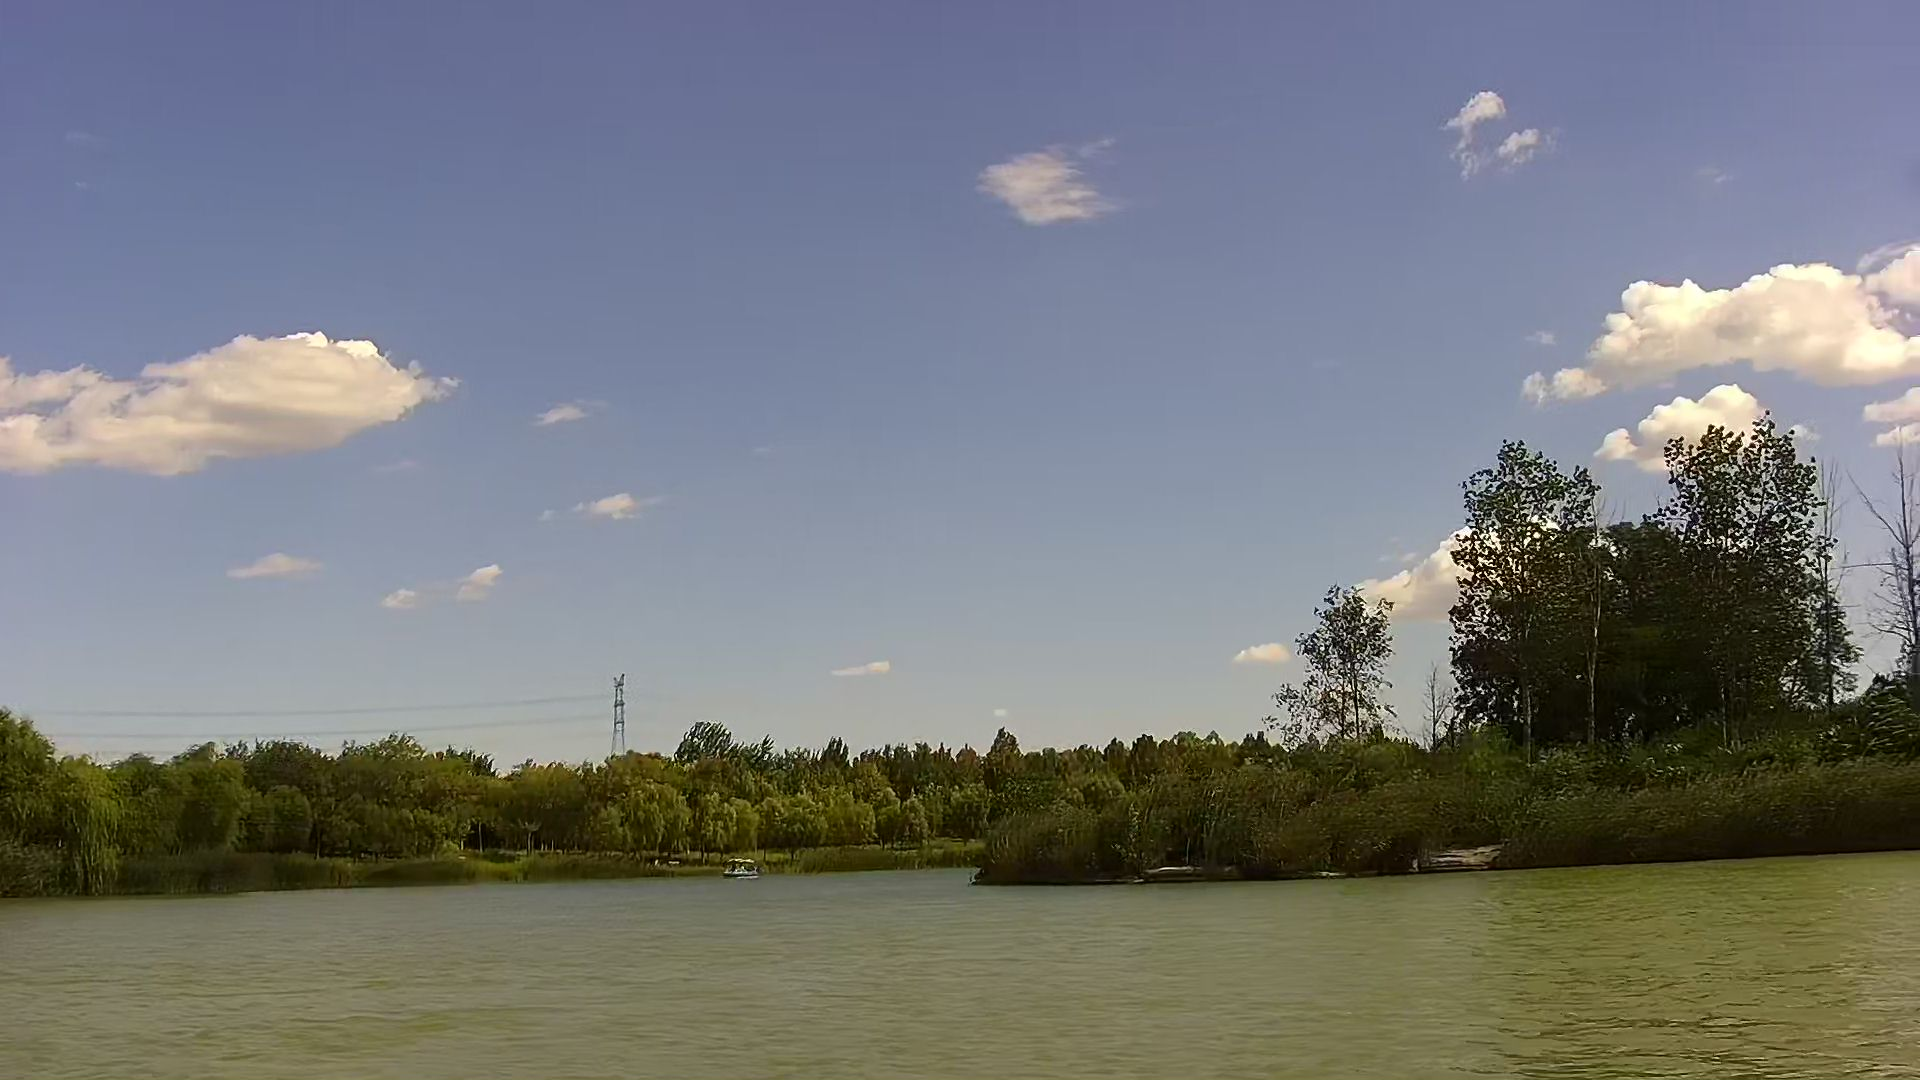boat: (723, 857, 754, 876)
rock: (1411, 841, 1505, 868), (1149, 861, 1233, 880)
